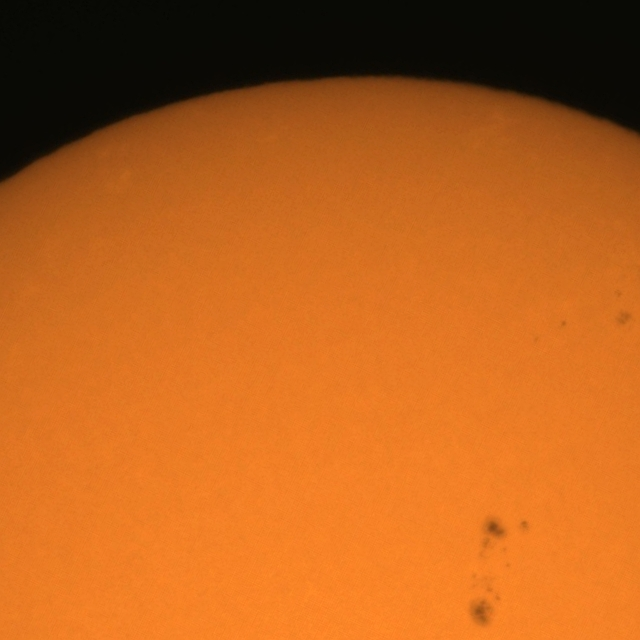sunspot: (480, 518, 510, 560), (469, 588, 499, 629), (615, 309, 635, 328), (518, 518, 530, 534), (614, 288, 624, 300), (560, 318, 568, 328)
